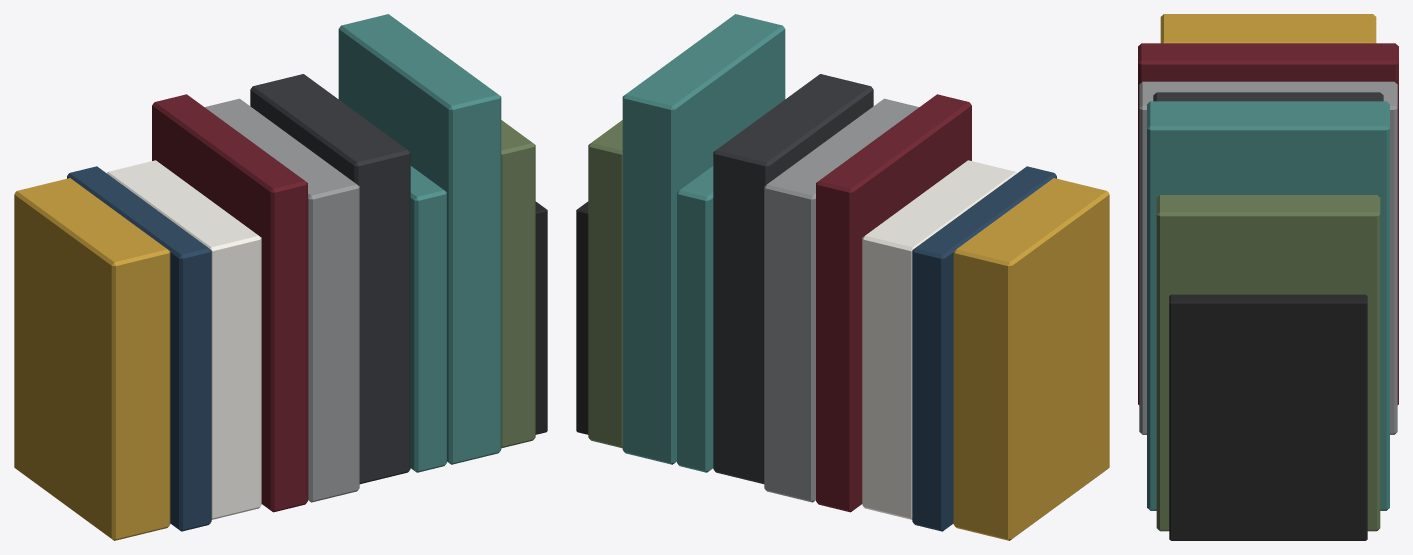
Rendered from i_books_s2.glb.
3 renders of one model, left to right at view 1: azimuth 30°, elevation 25°; view 2: azimuth 150°, elevation 25°; view 3: azimuth 270°, elevation 25°, orthographic. The views are drawn at different scales.
Parts seen in each view (by area): view 1: o, o.007, o.003, o.005, o.004, o.002, o.001, o.008, o.006, o.009; view 2: o, o.007, o.003, o.005, o.004, o.002, o.001, o.008, o.006, o.009; view 3: o.009, o.007, o.008, o.003, o.004, o, o.005.
Boxes of the visible parts, x1,y1,x2,y2 form: o: (14, 178, 170, 540); o.007: (338, 14, 501, 464); o.003: (152, 94, 307, 512); o.005: (250, 74, 410, 484); o.004: (205, 98, 359, 502); o.002: (107, 160, 261, 519); o.001: (67, 166, 211, 531); o.008: (501, 120, 535, 448); o.006: (410, 166, 446, 472); o.009: (535, 201, 547, 434); o: (953, 178, 1109, 540); o.007: (622, 14, 785, 464); o.003: (816, 94, 971, 512); o.005: (713, 74, 873, 484); o.004: (764, 98, 918, 502); o.002: (862, 160, 1016, 519); o.001: (912, 166, 1056, 531); o.008: (588, 120, 622, 448); o.006: (677, 166, 713, 472); o.009: (576, 201, 588, 434); o.009: (1169, 294, 1367, 540); o.007: (1147, 101, 1389, 510); o.008: (1156, 195, 1380, 531); o.003: (1138, 43, 1398, 404); o.004: (1139, 81, 1397, 434); o: (1160, 14, 1376, 43); o.005: (1153, 92, 1383, 101).
Size of the model in its own units: 0.3297 by 0.2573 by 0.158.
